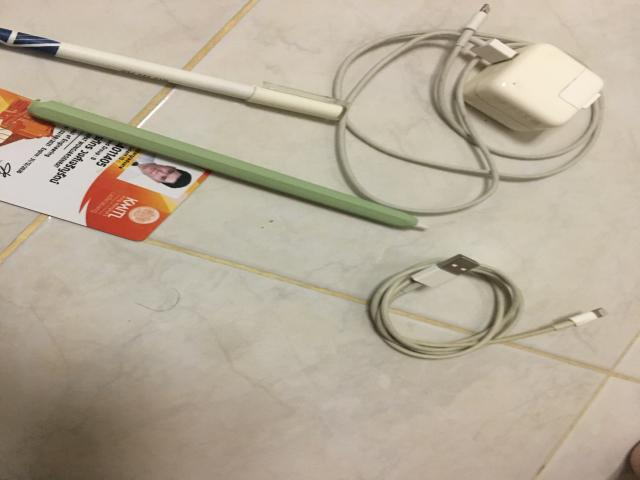Pen: (0, 28, 347, 120)
wire: (332, 4, 603, 215), (370, 254, 607, 359)
